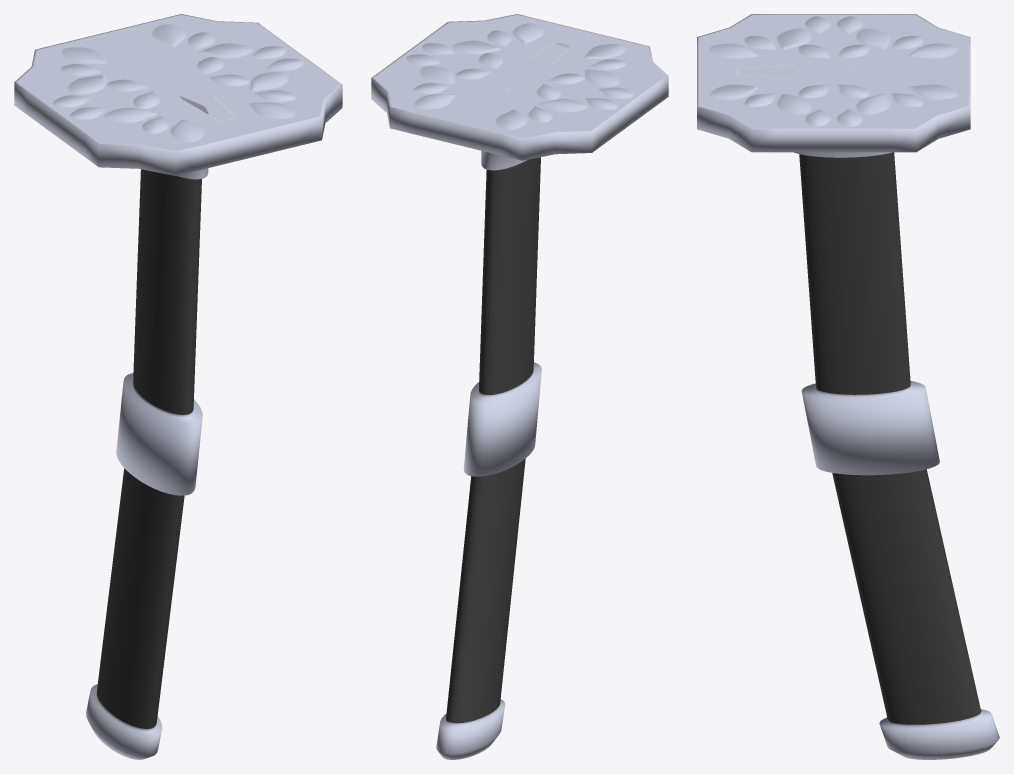
Rendered from katanahandle.fbx.
3 renders of one model, left to right at view 1: azimuth 30°, elevation 25°; view 2: azimuth 150°, elevation 25°; view 3: azimuth 270°, elevation 25°, orthographic. The views are drawn at different scales.
Visible parts, largest first — view 1: KatanaMesh.001; view 2: KatanaMesh.001; view 3: KatanaMesh.001.
Part boxes in pixels (bbox=[...]): KatanaMesh.001: bbox=[14, 14, 342, 759]; KatanaMesh.001: bbox=[371, 14, 668, 759]; KatanaMesh.001: bbox=[697, 14, 999, 759].
Bounding box in the file's own units: 4.33 × 11.94 × 4.79.
